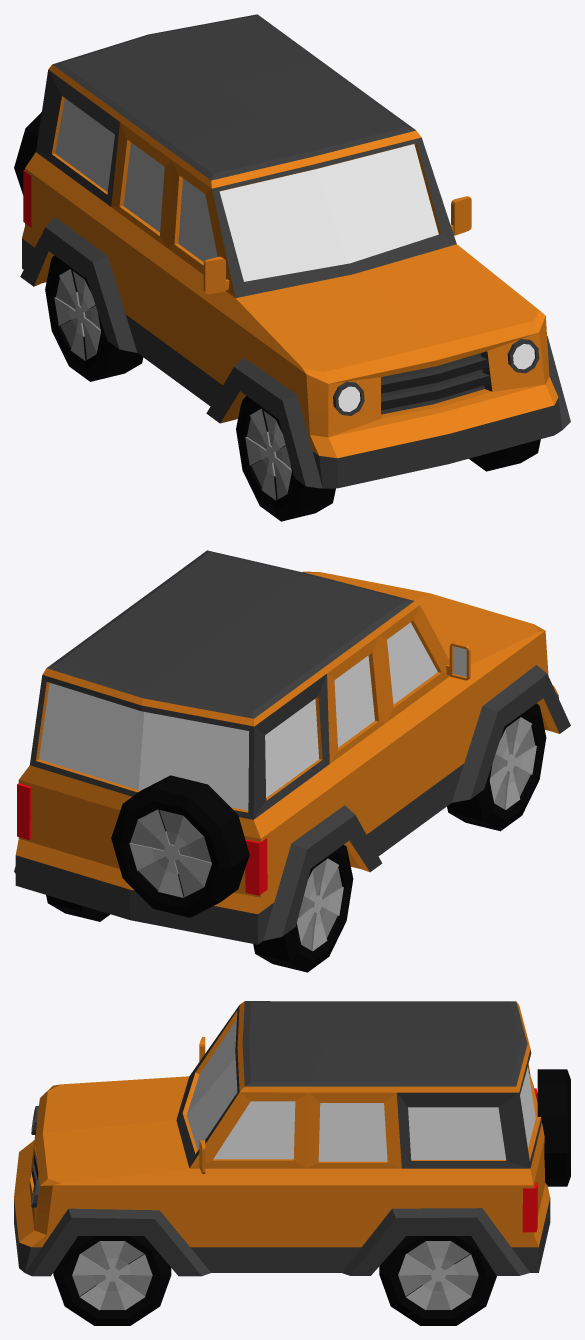
3 renders of one model, top to bottom at view 1: azimuth 30°, elevation 25°; view 2: azimuth 150°, elevation 25°; view 3: azimuth 270°, elevation 25°, orthographic. The views are drawn at different scales.
Parts seen in each view (by area): view 1: Body, F_R_Wheel, R_R_Wheel, F_L_Wheel, __; view 2: Body, __, F_R_Wheel, R_R_Wheel, R_L_Wheel; view 3: Body, F_L_Wheel, R_L_Wheel, __.
Boxes of the visible parts, <box> form: Body: <box>20,14,570,488</box>; F_R_Wheel: <box>236,395,335,521</box>; R_R_Wheel: <box>45,255,143,381</box>; F_L_Wheel: <box>469,439,540,471</box>; __: <box>14,112,41,194</box>; Body: <box>14,550,570,944</box>; __: <box>111,775,249,917</box>; F_R_Wheel: <box>447,703,546,831</box>; R_R_Wheel: <box>253,845,353,972</box>; R_L_Wheel: <box>46,895,109,921</box>; Body: <box>14,1001,550,1276</box>; F_L_Wheel: <box>53,1236,171,1325</box>; R_L_Wheel: <box>379,1236,496,1325</box>; __: <box>537,1069,570,1186</box>.
Size of the model in its own units: 218 by 216 by 462.
